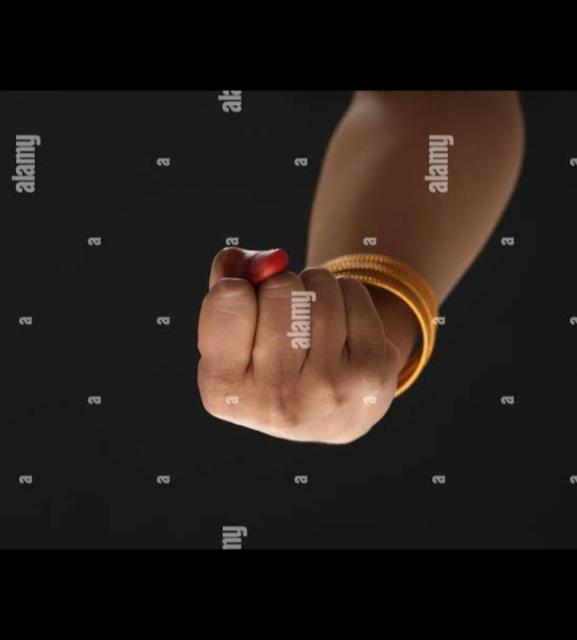mushti: (196, 245, 422, 444)
